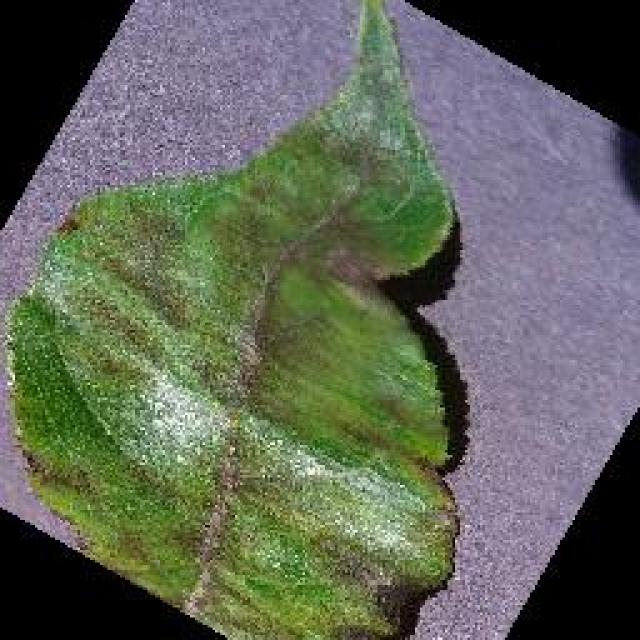apple scab disease: (0, 0, 470, 638)
